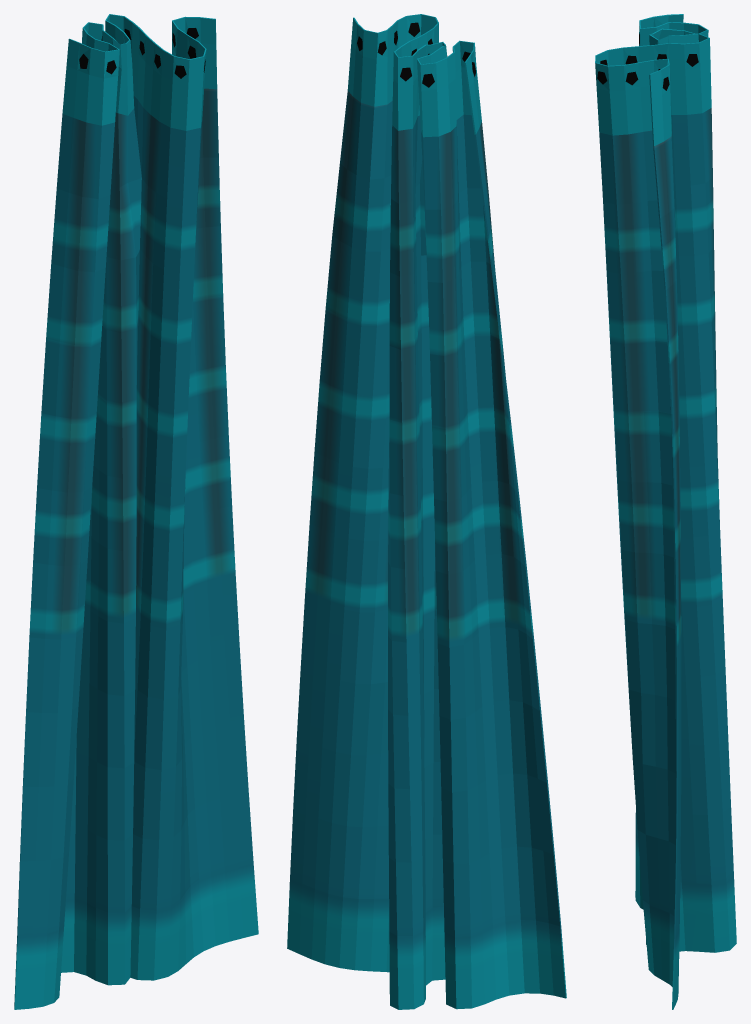
The model's file is Int_ShowerCurtain01.fbx.
The picture shows the model from 3 angles, left to right: view 1: azimuth 30°, elevation 25°; view 2: azimuth 150°, elevation 25°; view 3: azimuth 270°, elevation 25°; orthographic projection. The views are drawn at different scales.
Parts seen in each view (by area): view 1: Int_ShowerCurtain01; view 2: Int_ShowerCurtain01; view 3: Int_ShowerCurtain01.
Part boxes in pixels (x1,y1,x2,y2): Int_ShowerCurtain01: (14,14,258,1009); Int_ShowerCurtain01: (287,14,566,1009); Int_ShowerCurtain01: (595,14,736,1009).
Size of what is drawn, in the model's own units: 63.81 by 30.8 by 220.
